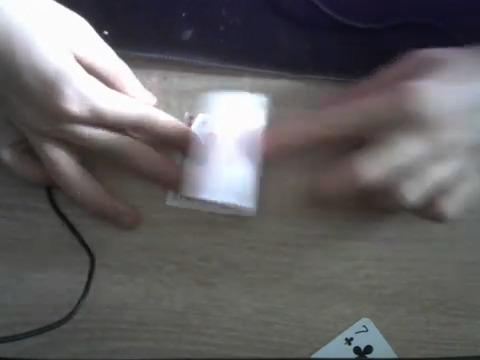5leva: (166, 90, 271, 218)
